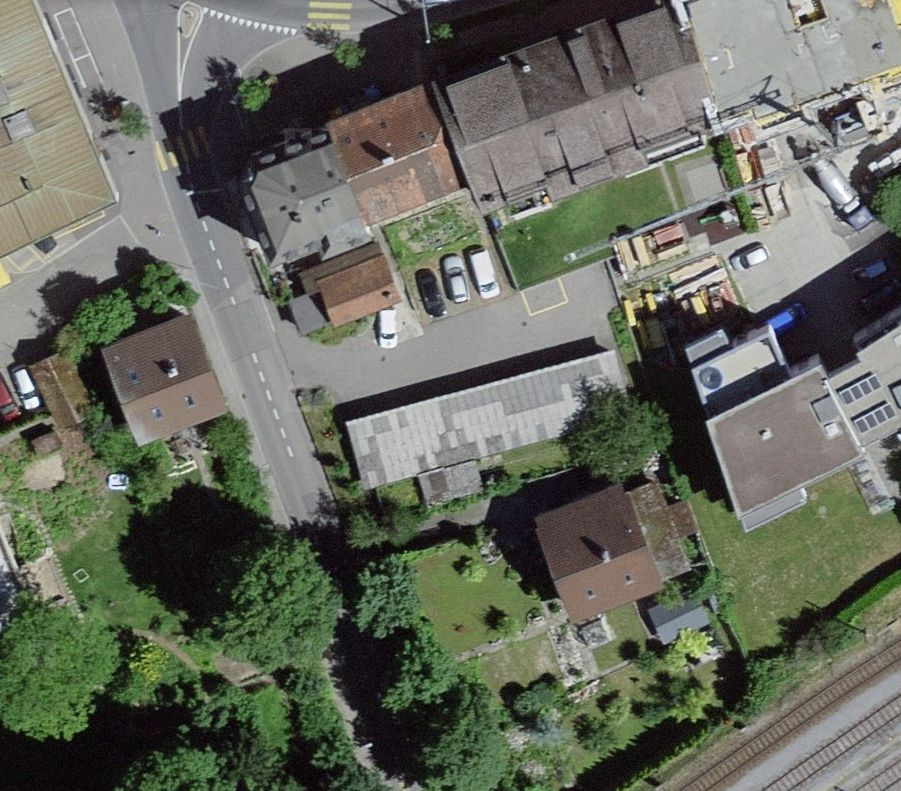solar: (841, 373, 895, 440)
